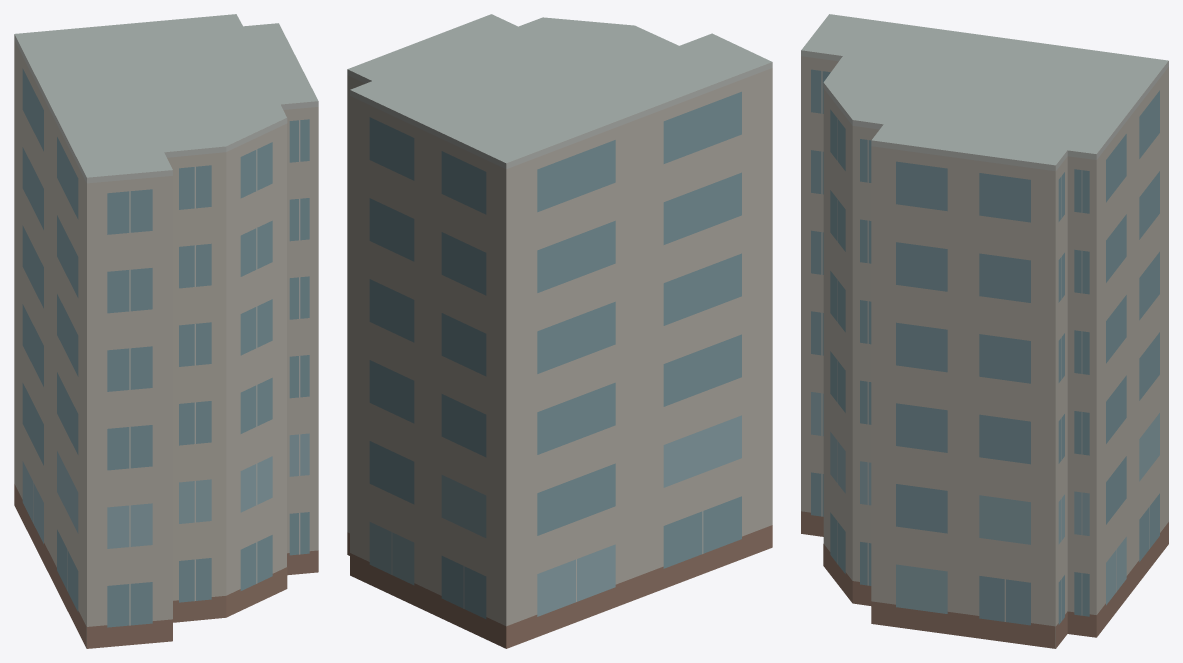
Rendered from survey-upis-32957077.glb.
3 views of the same model, side by side, from view 1: azimuth 30°, elevation 25°; view 2: azimuth 150°, elevation 25°; view 3: azimuth 270°, elevation 25° (orthographic). The views are drawn at different scales.
Parts seen in each view (by area): view 1: survey-upis-32957077.tmp; view 2: survey-upis-32957077.tmp; view 3: survey-upis-32957077.tmp.
Boxes of the visible parts, x1,y1,x2,y2 form: survey-upis-32957077.tmp: [14, 14, 318, 648]; survey-upis-32957077.tmp: [347, 14, 772, 648]; survey-upis-32957077.tmp: [801, 14, 1168, 648].
Bounding box in the file's own units: 13.51 × 20.1 × 13.86.
